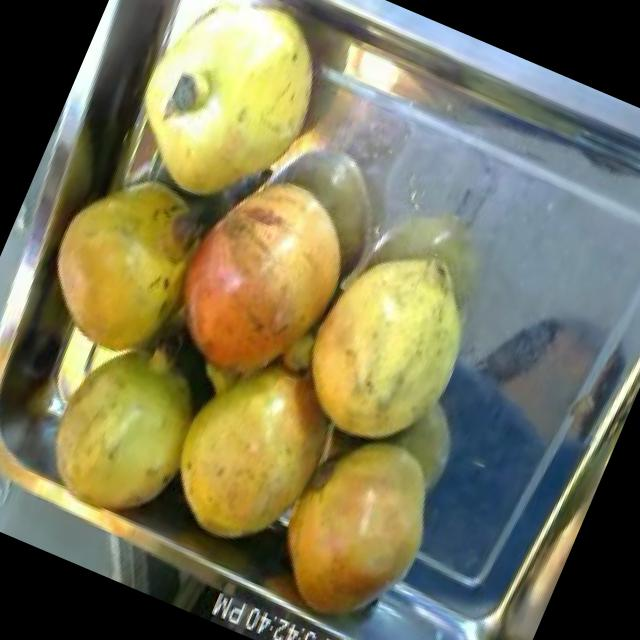fruit: (130, 129, 387, 421), (82, 0, 363, 251), (262, 208, 514, 484), (7, 134, 238, 394), (142, 321, 362, 570), (14, 308, 230, 544), (248, 406, 463, 640)
